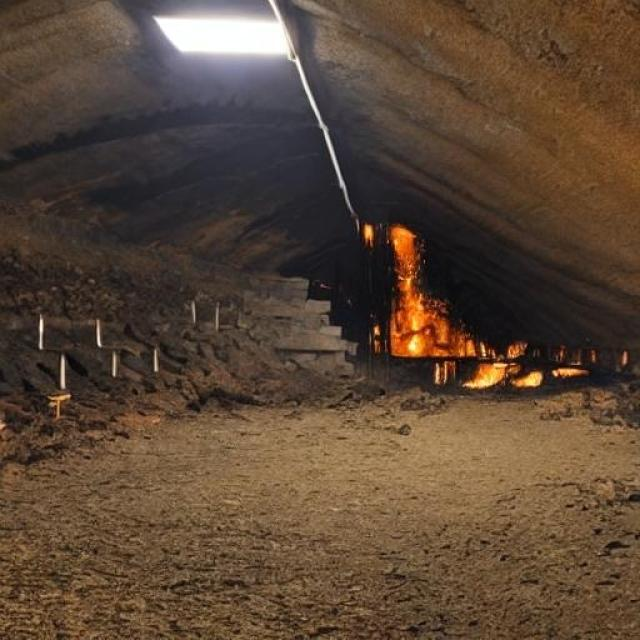Fire: (352, 217, 594, 390)
